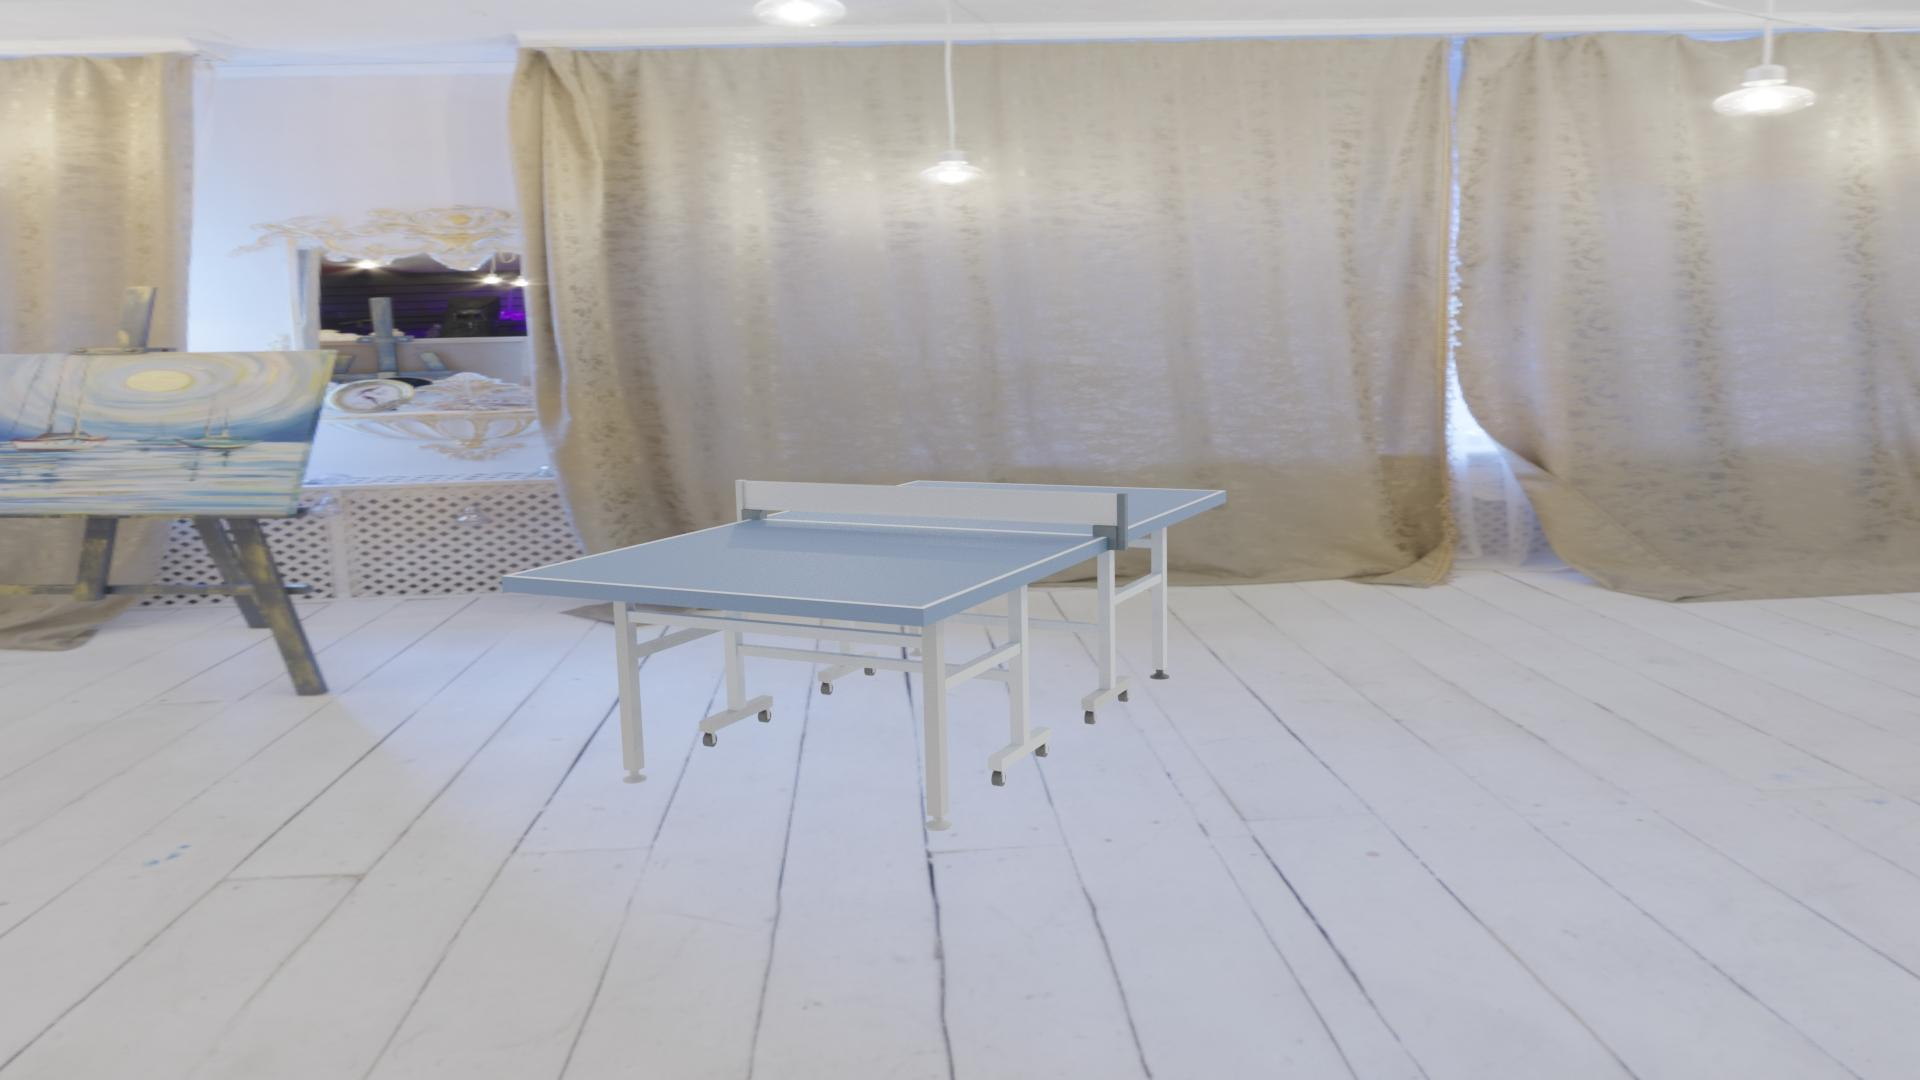table: (510, 481, 1220, 607)
